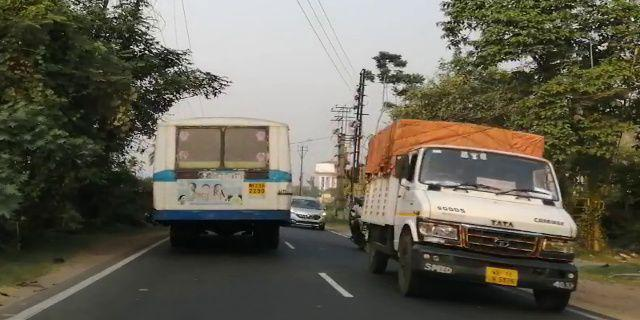Bus: (150, 111, 294, 261)
Car: (288, 191, 328, 231)
Motorbike: (347, 194, 365, 247)
Truck: (362, 117, 588, 314)
